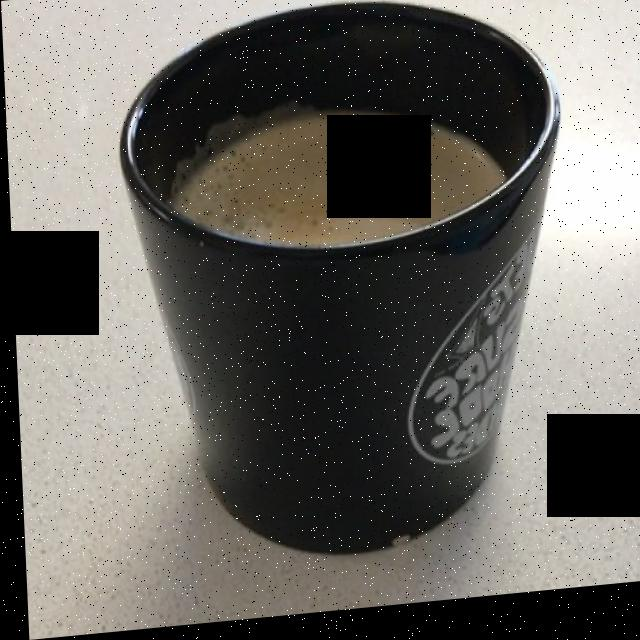white-coffee-with-caffeine: (174, 111, 505, 250)
